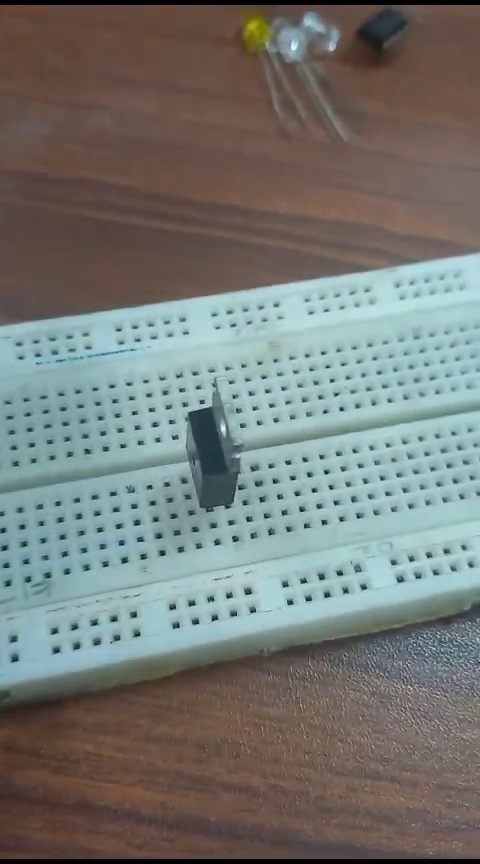voltage regulator: (170, 379, 250, 539)
